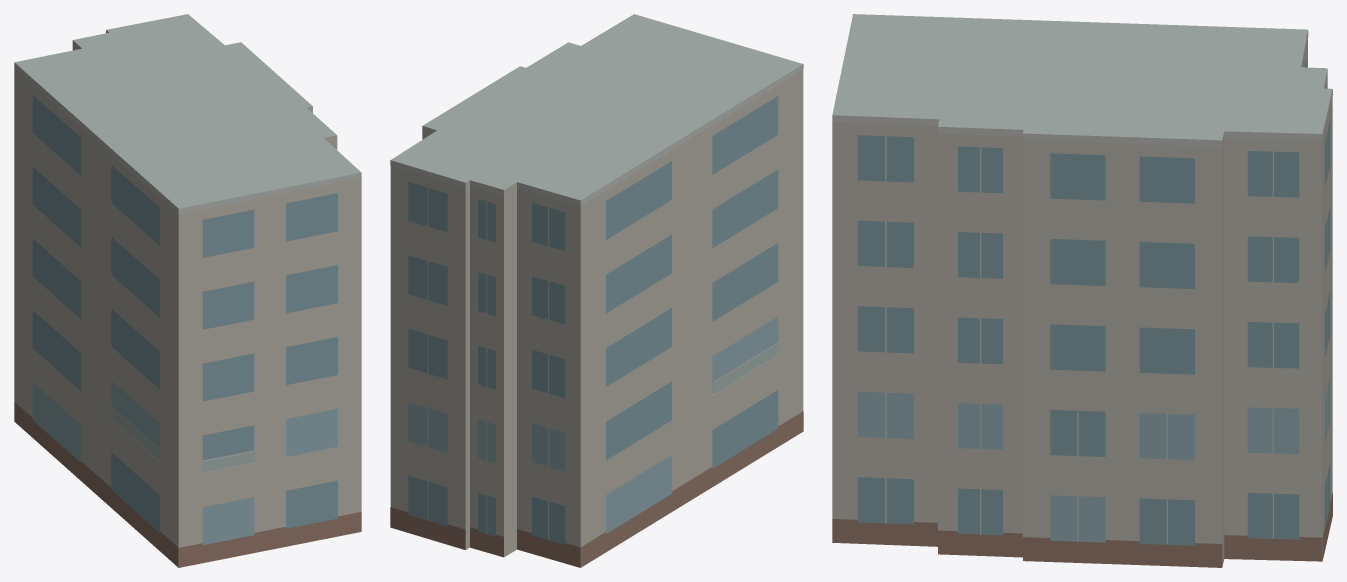
File: survey-upis-33018868.glb
3 views of the same model, side by side, from view 1: azimuth 30°, elevation 25°; view 2: azimuth 150°, elevation 25°; view 3: azimuth 270°, elevation 25° (orthographic). The views are drawn at different scales.
Visible parts, largest first — view 1: survey-upis-33018868.tmp; view 2: survey-upis-33018868.tmp; view 3: survey-upis-33018868.tmp.
Boxes of the visible parts, bbox=[...] form: survey-upis-33018868.tmp: bbox=[14, 14, 361, 567]; survey-upis-33018868.tmp: bbox=[390, 14, 803, 567]; survey-upis-33018868.tmp: bbox=[832, 14, 1332, 567].
Size of the model in its own units: 10.05 by 15.85 by 16.82.
